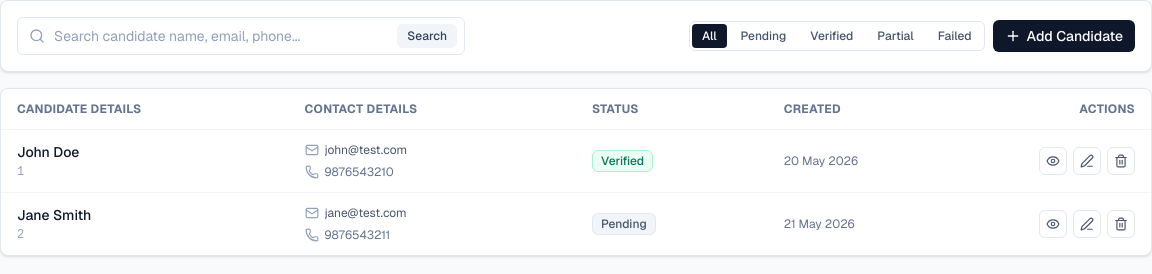
Test: CandidateList Component › Delete Candidate › should show delete confirmation
The width and height of the screenshot is (1152, 274).
Click the button titled "Delete" in the row of "John Doe": x=1121, y=161 x1=1107 y1=147 x2=1135 y2=175
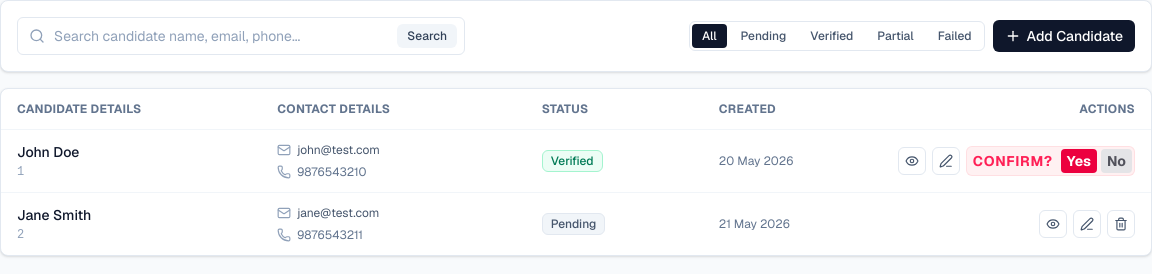
Result: the text "Confirm?" is shown at x1=969 y1=151 x2=1057 y2=171
